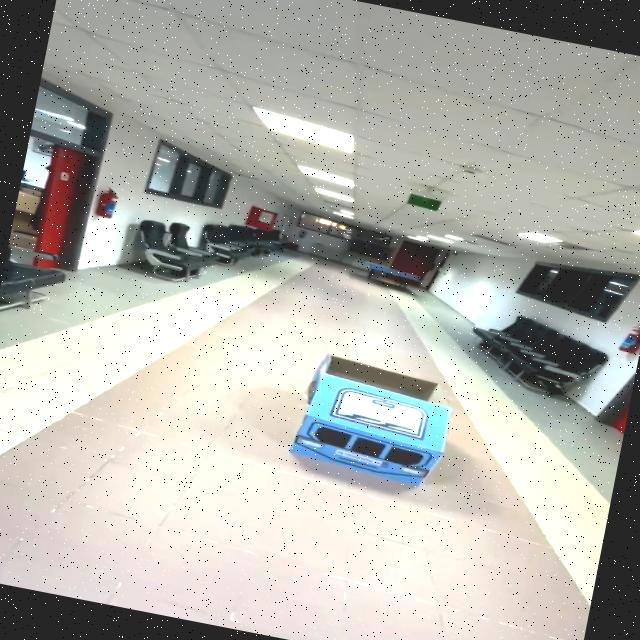blue_car: (247, 332, 478, 519)
